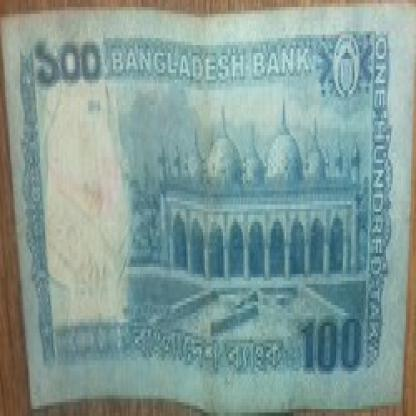one hundred taka: (300, 312, 370, 378), (26, 31, 104, 90)
